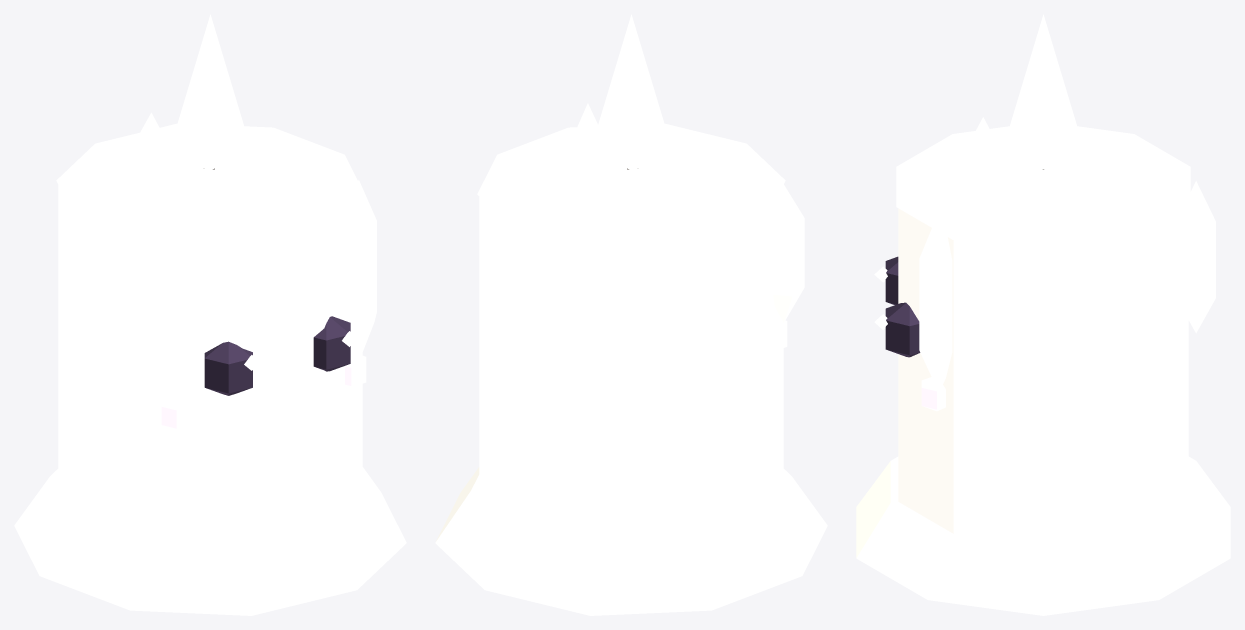
File: spirit_wick.glb
The picture shows the model from 3 angles, left to right: view 1: azimuth 30°, elevation 25°; view 2: azimuth 150°, elevation 25°; view 3: azimuth 270°, elevation 25°; orthographic projection.
Parts seen in each view (by area): view 1: body, flicker, eyes; view 2: body, flicker; view 3: body, flicker, eyes.
Boxes of the visible parts, left/top/right/bottom form: body: left=14, top=112, right=406, bottom=615; flicker: left=172, top=14, right=248, bottom=169; eyes: left=204, top=316, right=356, bottom=395; body: left=435, top=103, right=827, bottom=615; flicker: left=593, top=14, right=669, bottom=169; body: left=856, top=117, right=1230, bottom=615; flicker: left=1005, top=14, right=1081, bottom=169; eyes: left=874, top=256, right=920, bottom=357.
Bounding box in the file's own units: 1.96 × 2.85 × 1.86.
